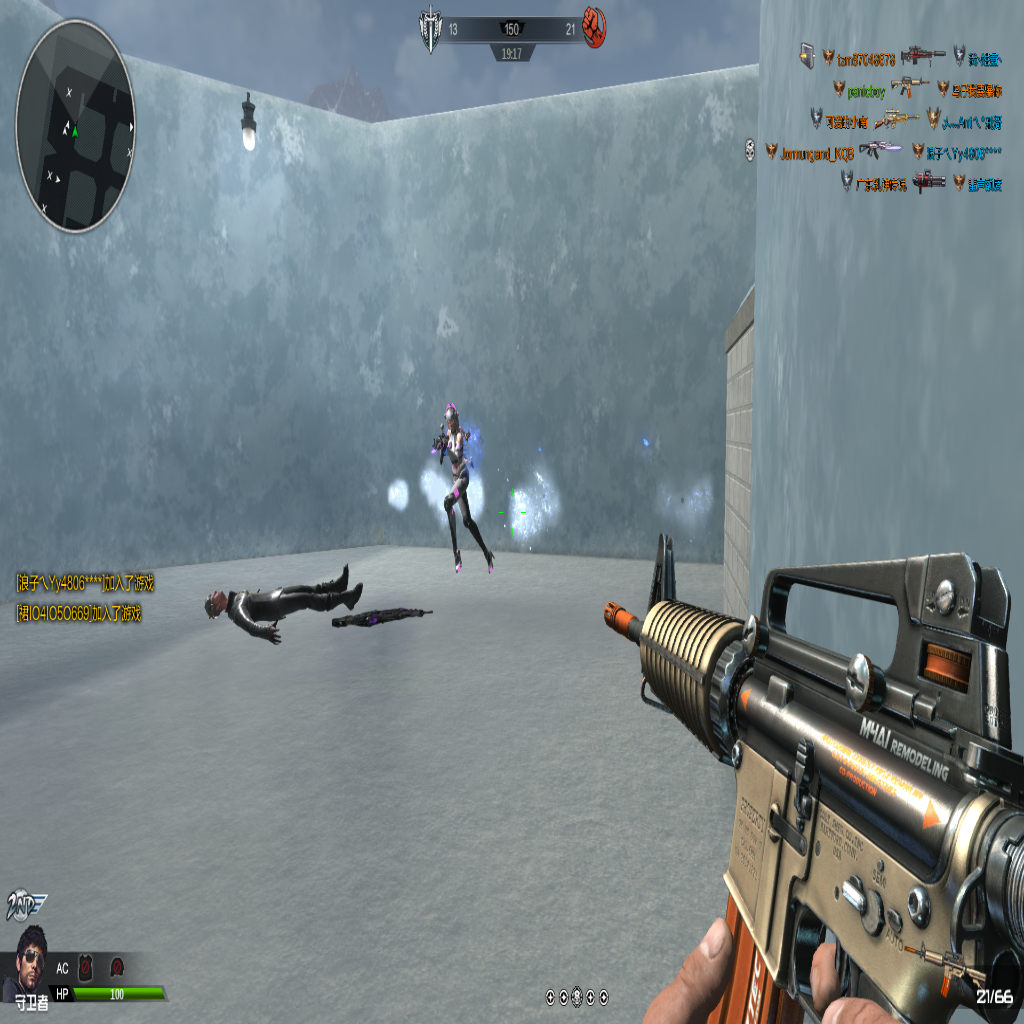tt: (432, 402, 491, 575)
